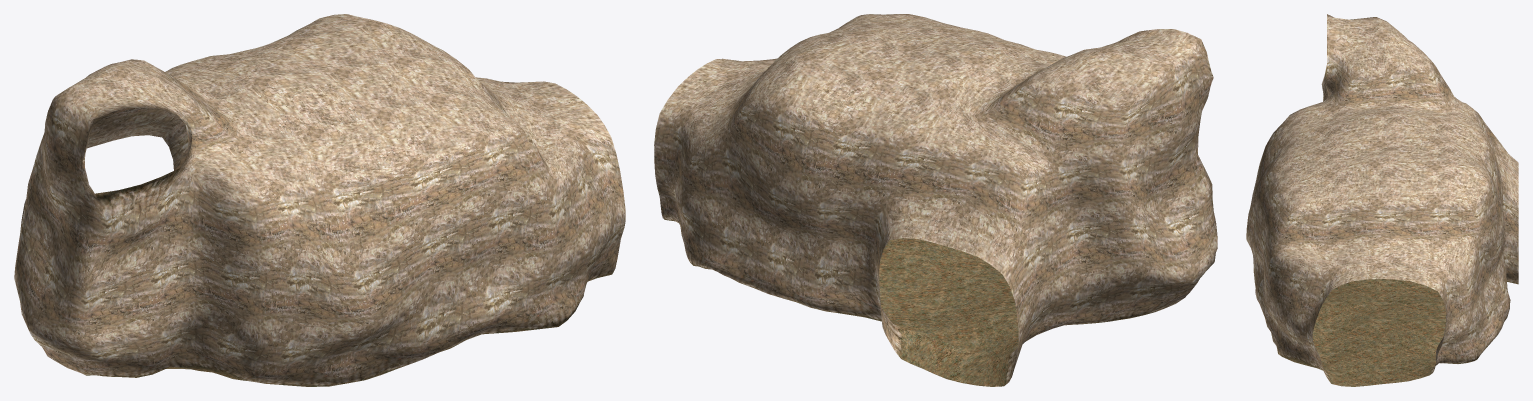
File: thm_all_cave_s01_mirror_r9_mesh_r9.fbx
3 renders of one model, left to right at view 1: azimuth 30°, elevation 25°; view 2: azimuth 150°, elevation 25°; view 3: azimuth 270°, elevation 25°, orthographic. The views are drawn at different scales.
Parts seen in each view (by area): view 1: mesh_node; view 2: mesh_node; view 3: mesh_node.
Boxes of the visible parts, x1=… form: mesh_node: x1=14, y1=14, x2=625, y2=386; mesh_node: x1=654, y1=14, x2=1217, y2=386; mesh_node: x1=1246, y1=14, x2=1518, y2=386.
Size of the model in its own units: 80.39 by 43.77 by 50.19.
